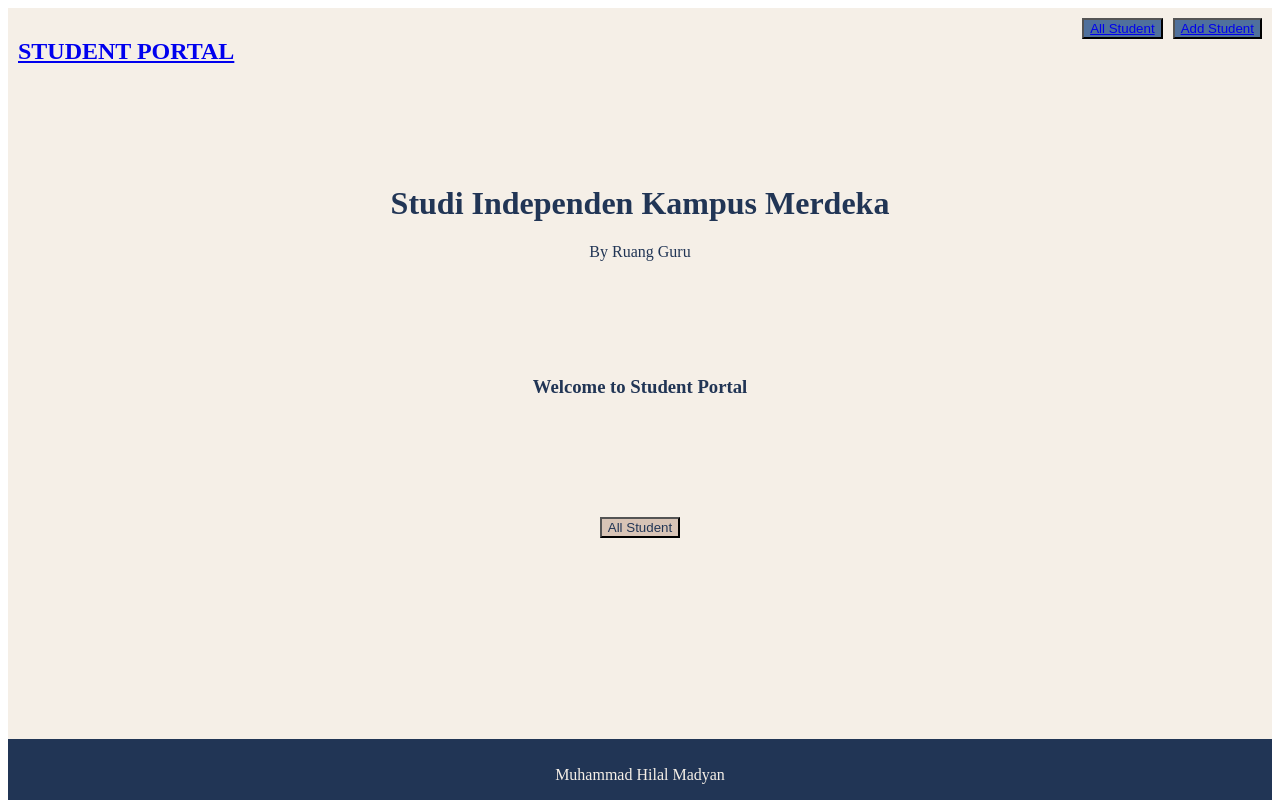
Test: Home › renders index route correctly
The width and height of the screenshot is (1280, 800).
Click the button with test id "student-btn": (640, 527) [600, 517, 680, 538]
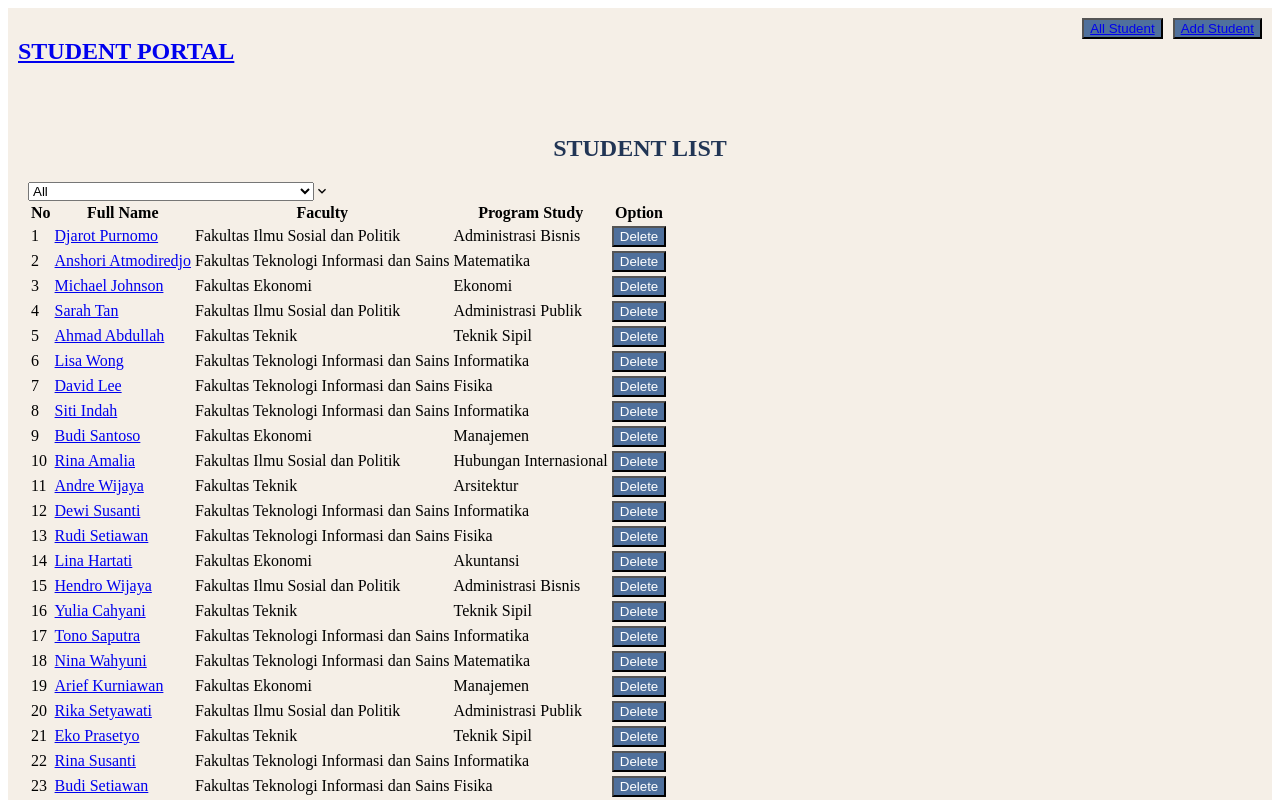
Check: the link "Djarot Purnomo" is shown, box [55, 227, 158, 244]
